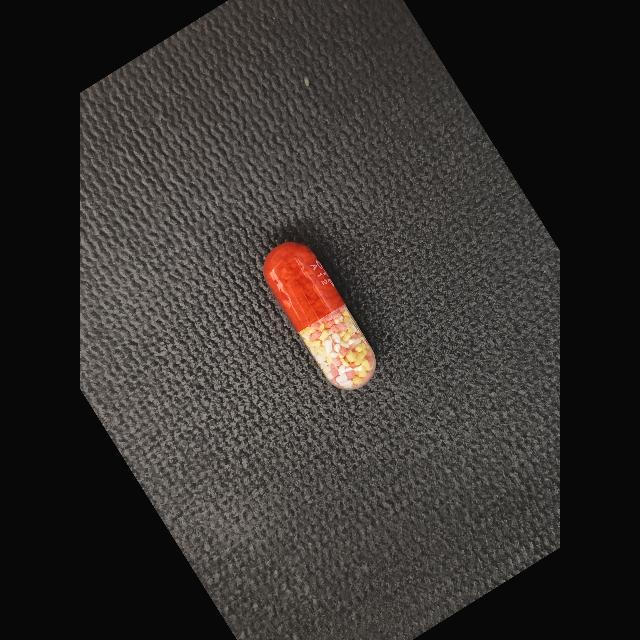Intact Capsule: (263, 242, 376, 389)
